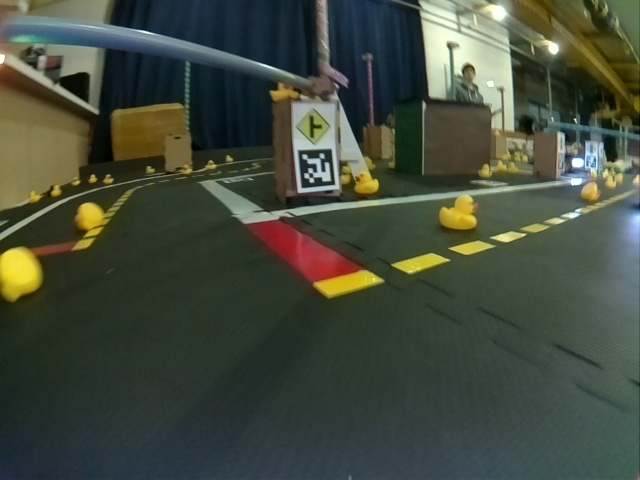Duckie: (4, 247, 42, 297), (442, 194, 478, 231), (76, 204, 104, 230), (355, 173, 379, 192), (583, 182, 601, 201), (477, 164, 493, 177), (71, 177, 79, 186), (88, 175, 97, 183), (146, 167, 154, 176), (183, 167, 192, 175), (104, 175, 112, 183), (30, 191, 37, 200), (51, 188, 58, 193)
Intersection sign: (292, 105, 336, 146)
QR code: (298, 148, 336, 190)
